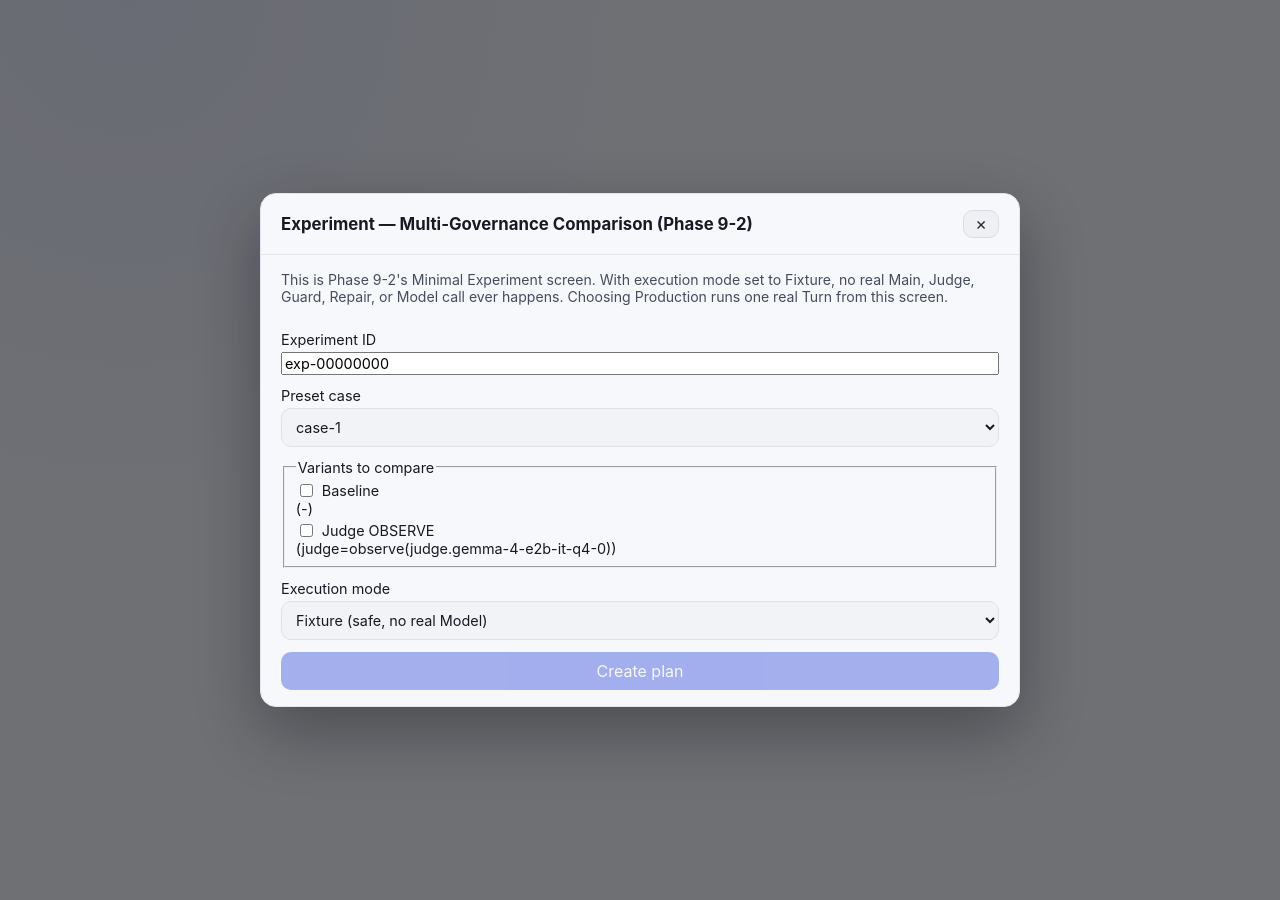
it: ExperimentPanel › a transient status-read failure retries instead of stranding the first running row
This screenshot has width=1280, height=900.
Expected: the text "Judge OBSERVE" is shown, 300,522 -> 434,539
What coordinates should you click on to do the following:
click the checkbox labelled "Judge OBSERVE"
I would click on:
 (306, 530)
Its box is 300,524 -> 313,537.
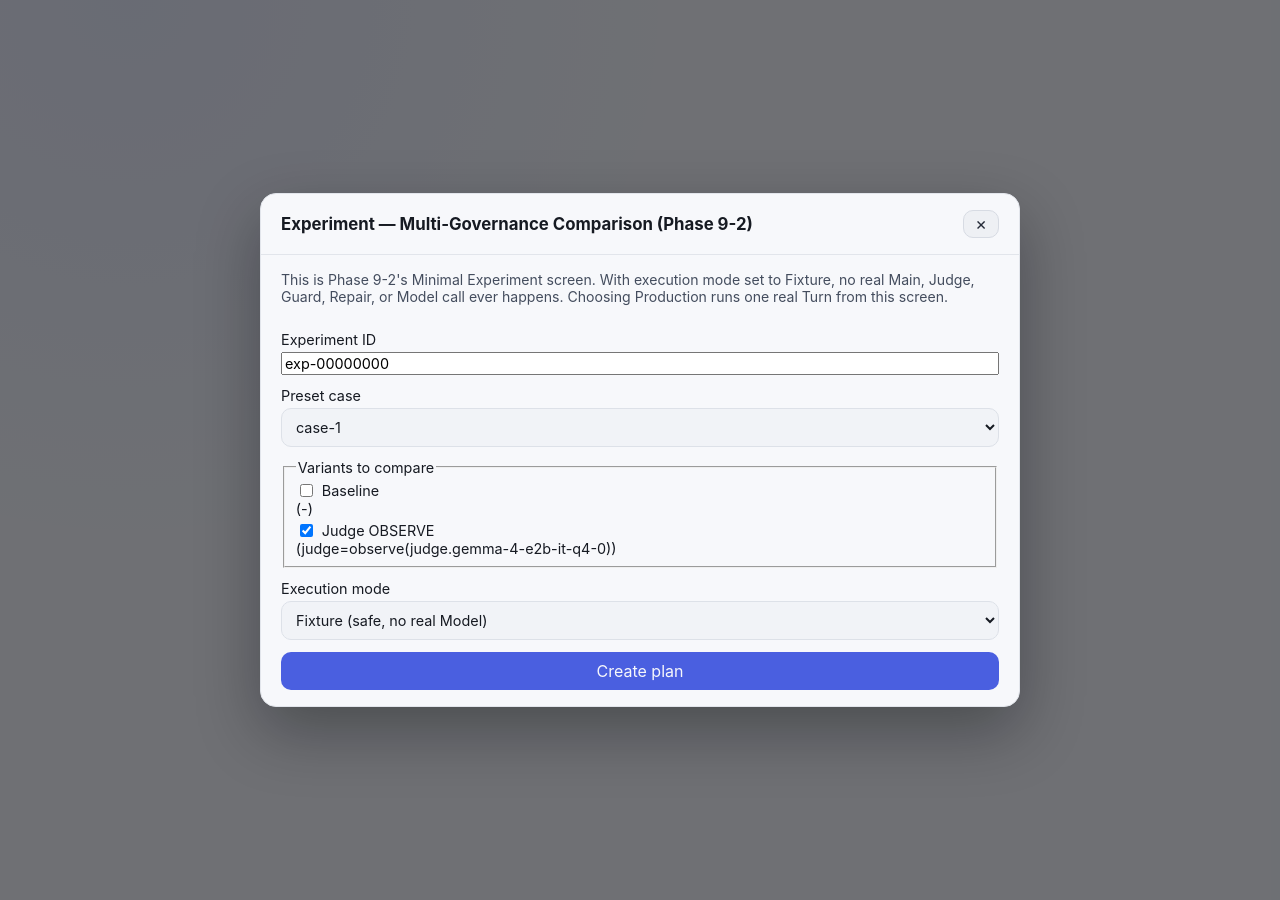
What coordinates should you click on to do the following:
click the button "Create plan"
I would click on:
 (640, 671)
Its box is 281,652 -> 999,690.
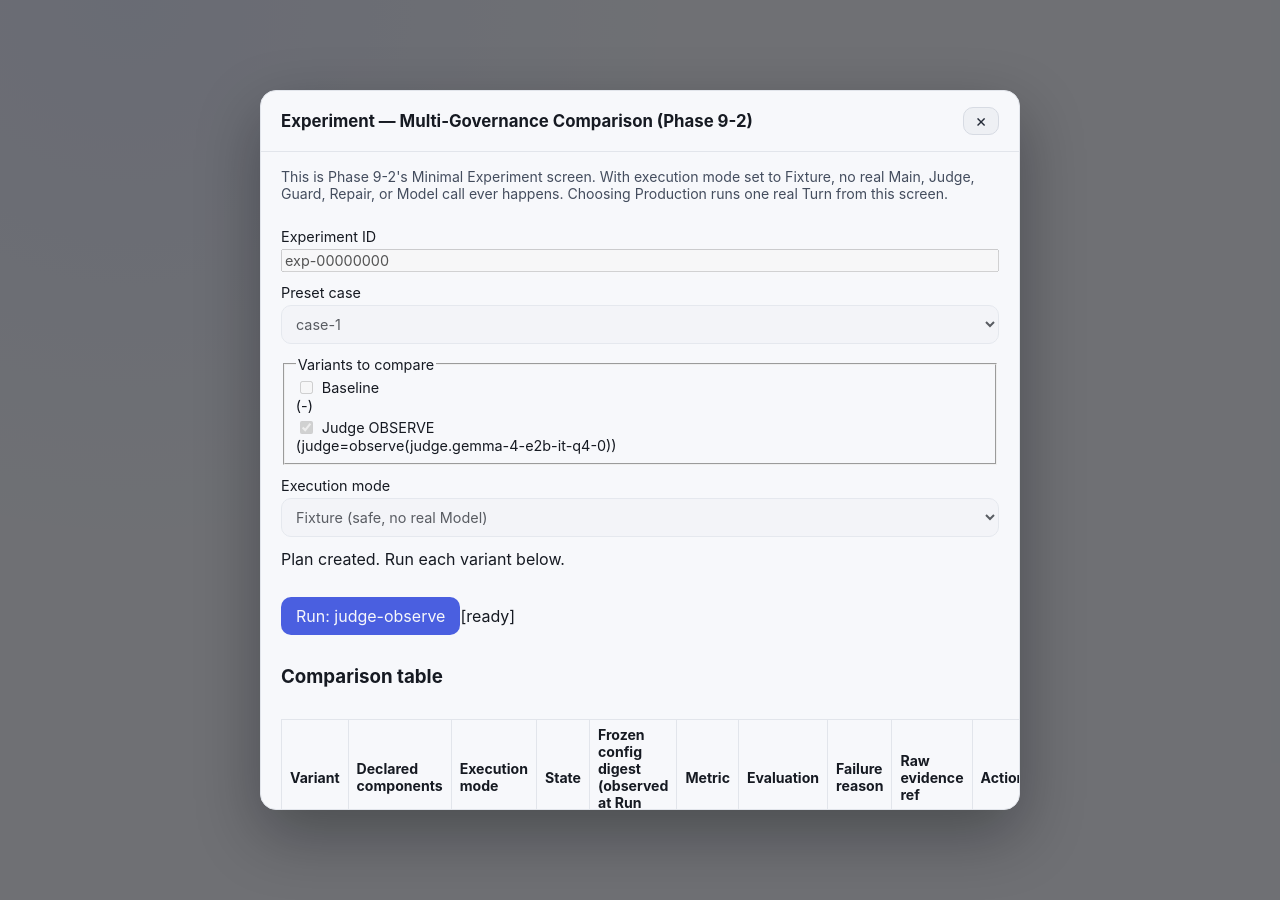
Expected: the text "Plan created. Run each variant below." is shown, 281,549 -> 565,569
What coordinates should you click on to do the following:
click the button "Run: judge-observe"
I would click on:
 (371, 616)
Its box is 281,597 -> 460,635.
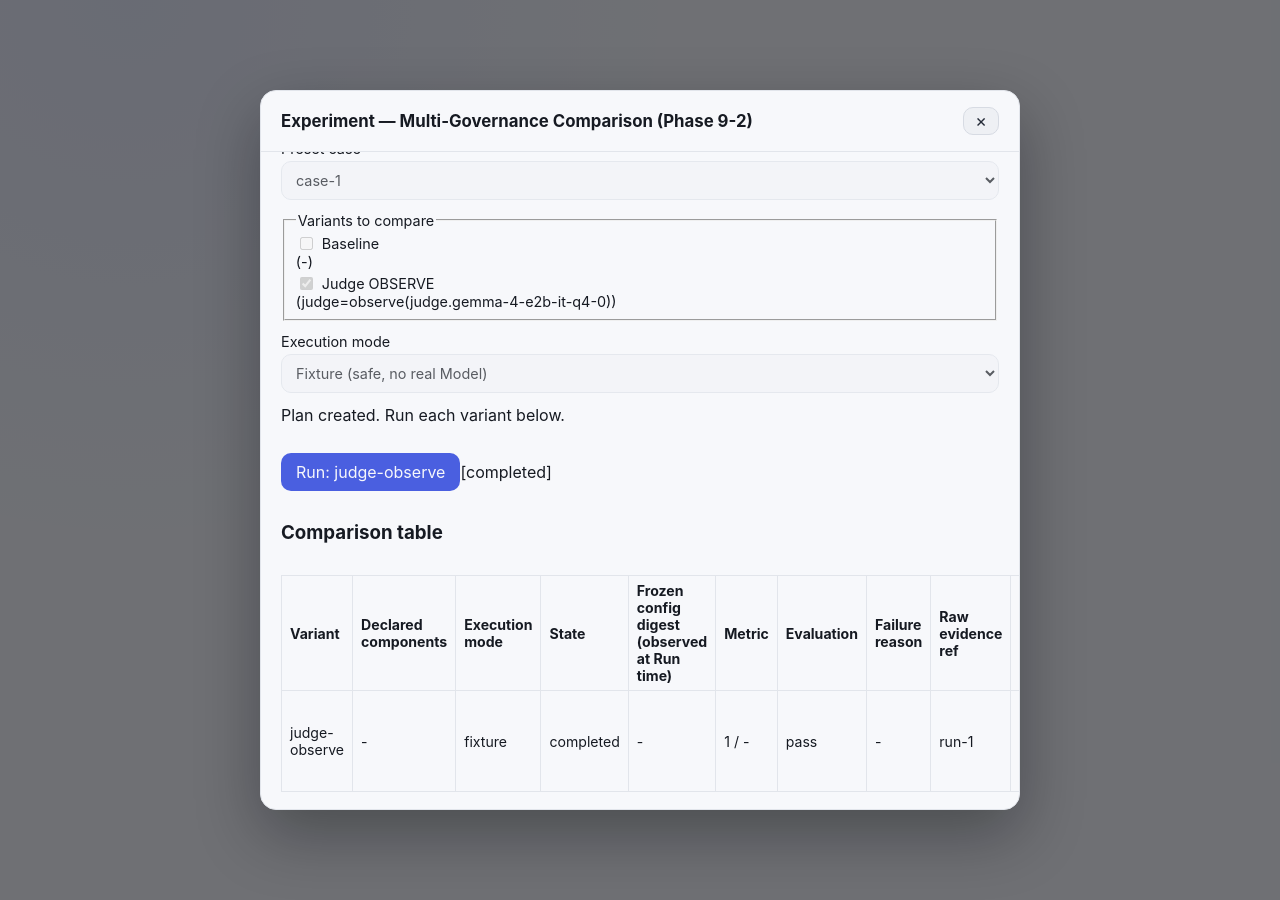
Expected: the text "completed" is shown, 541,691 -> 628,792
